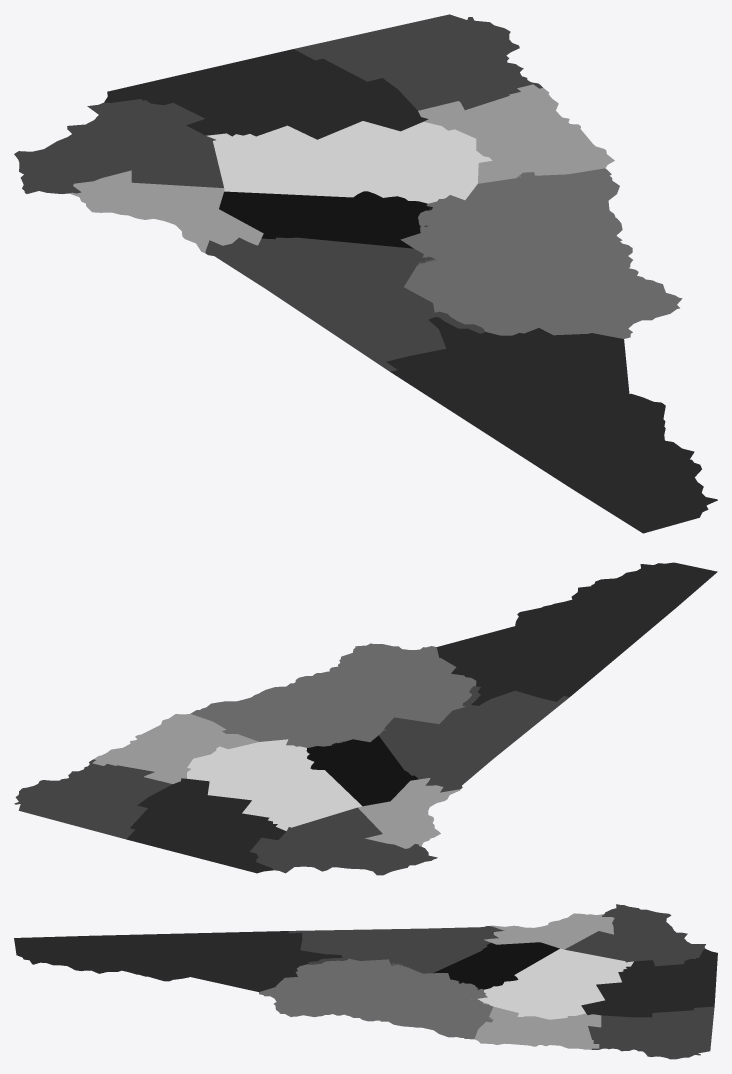
The model's file is New_Hampshire_Counties_2D.fbx.
3 renders of one model, top to bottom at view 1: azimuth 30°, elevation 25°; view 2: azimuth 150°, elevation 25°; view 3: azimuth 270°, elevation 25°, orthographic. The views are drawn at different scales.
Visible parts, largest first — view 1: NH_Coos_County_2D, NH_Grafton_County_2D, NH_Carroll_County_2D, NH_Merrimack_County_2D, NH_Hillsborough_County_2D, NH_Cheshire_County_2D, NH_Rockingham_County_2D, NH_Sullivan_County_2D, NH_Belknap_County_2D, NH_Strafford_County_2D; view 2: NH_Coos_County_2D, NH_Grafton_County_2D, NH_Carroll_County_2D, NH_Merrimack_County_2D, NH_Hillsborough_County_2D, NH_Cheshire_County_2D, NH_Rockingham_County_2D, NH_Sullivan_County_2D, NH_Belknap_County_2D, NH_Strafford_County_2D; view 3: NH_Coos_County_2D, NH_Grafton_County_2D, NH_Carroll_County_2D, NH_Merrimack_County_2D, NH_Hillsborough_County_2D, NH_Cheshire_County_2D, NH_Rockingham_County_2D, NH_Sullivan_County_2D, NH_Belknap_County_2D, NH_Strafford_County_2D.
Boxes of the visible parts, left/top/right/bottom form: NH_Coos_County_2D: left=386, top=317, right=717, bottom=533; NH_Grafton_County_2D: left=400, top=168, right=682, bottom=338; NH_Carroll_County_2D: left=205, top=237, right=485, bottom=371; NH_Merrimack_County_2D: left=206, top=121, right=492, bottom=203; NH_Hillsborough_County_2D: left=104, top=49, right=428, bottom=139; NH_Cheshire_County_2D: left=294, top=14, right=542, bottom=110; NH_Rockingham_County_2D: left=14, top=99, right=223, bottom=193; NH_Sullivan_County_2D: left=418, top=84, right=614, bottom=183; NH_Belknap_County_2D: left=219, top=191, right=432, bottom=248; NH_Strafford_County_2D: left=69, top=170, right=263, bottom=252; NH_Coos_County_2D: left=436, top=562, right=717, bottom=705; NH_Grafton_County_2D: left=190, top=643, right=476, bottom=747; NH_Carroll_County_2D: left=378, top=686, right=569, bottom=792; NH_Merrimack_County_2D: left=187, top=739, right=361, bottom=830; NH_Hillsborough_County_2D: left=126, top=778, right=286, bottom=873; NH_Cheshire_County_2D: left=14, top=759, right=172, bottom=839; NH_Rockingham_County_2D: left=250, top=807, right=437, bottom=875; NH_Sullivan_County_2D: left=92, top=714, right=258, bottom=783; NH_Belknap_County_2D: left=306, top=735, right=418, bottom=806; NH_Strafford_County_2D: left=358, top=778, right=460, bottom=848; NH_Coos_County_2D: left=14, top=931, right=342, bottom=991; NH_Grafton_County_2D: left=259, top=958, right=493, bottom=1039; NH_Carroll_County_2D: left=288, top=926, right=504, bottom=973; NH_Merrimack_County_2D: left=478, top=948, right=633, bottom=1019; NH_Hillsborough_County_2D: left=581, top=949, right=717, bottom=1017; NH_Cheshire_County_2D: left=588, top=1006, right=714, bottom=1059; NH_Rockingham_County_2D: left=565, top=904, right=705, bottom=966; NH_Sullivan_County_2D: left=474, top=1006, right=601, bottom=1049; NH_Belknap_County_2D: left=433, top=942, right=559, bottom=989; NH_Strafford_County_2D: left=484, top=913, right=614, bottom=949.
Size of the model in its own units: 425 by 0 by 817.
